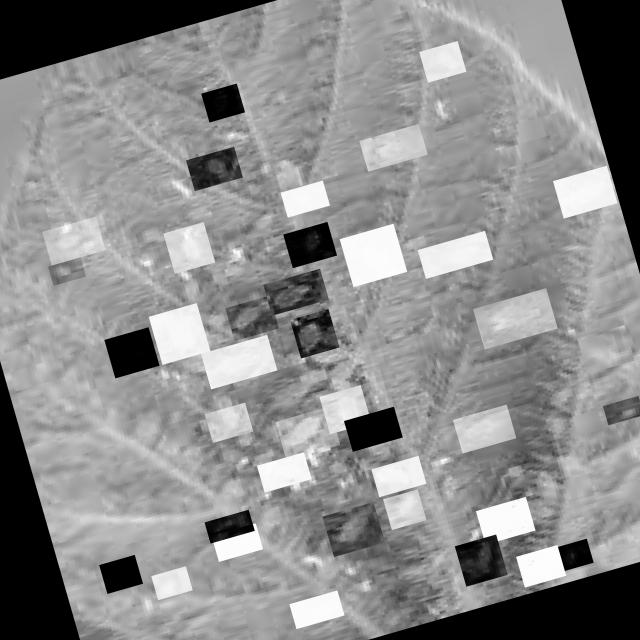aphid: (471, 288, 556, 349), (338, 224, 406, 287), (200, 334, 276, 390), (148, 302, 210, 364), (416, 230, 492, 278), (274, 406, 338, 460), (321, 502, 384, 556), (551, 166, 616, 218), (358, 124, 426, 172), (262, 268, 328, 315), (452, 404, 515, 453), (41, 216, 104, 265), (474, 496, 534, 544), (102, 327, 158, 378), (576, 324, 633, 374), (454, 534, 506, 586), (162, 221, 214, 273), (342, 406, 402, 451), (184, 146, 242, 190), (318, 385, 370, 434), (282, 222, 336, 268), (289, 309, 338, 358), (224, 296, 278, 340), (370, 456, 425, 496), (256, 452, 310, 492), (514, 544, 564, 587), (288, 590, 343, 629), (210, 523, 262, 562), (203, 402, 252, 442), (418, 41, 465, 82), (280, 180, 328, 217), (382, 489, 425, 530), (98, 554, 142, 594), (204, 509, 254, 544), (200, 83, 244, 122), (150, 566, 191, 600), (556, 538, 592, 570), (601, 395, 640, 424), (46, 256, 84, 285)
